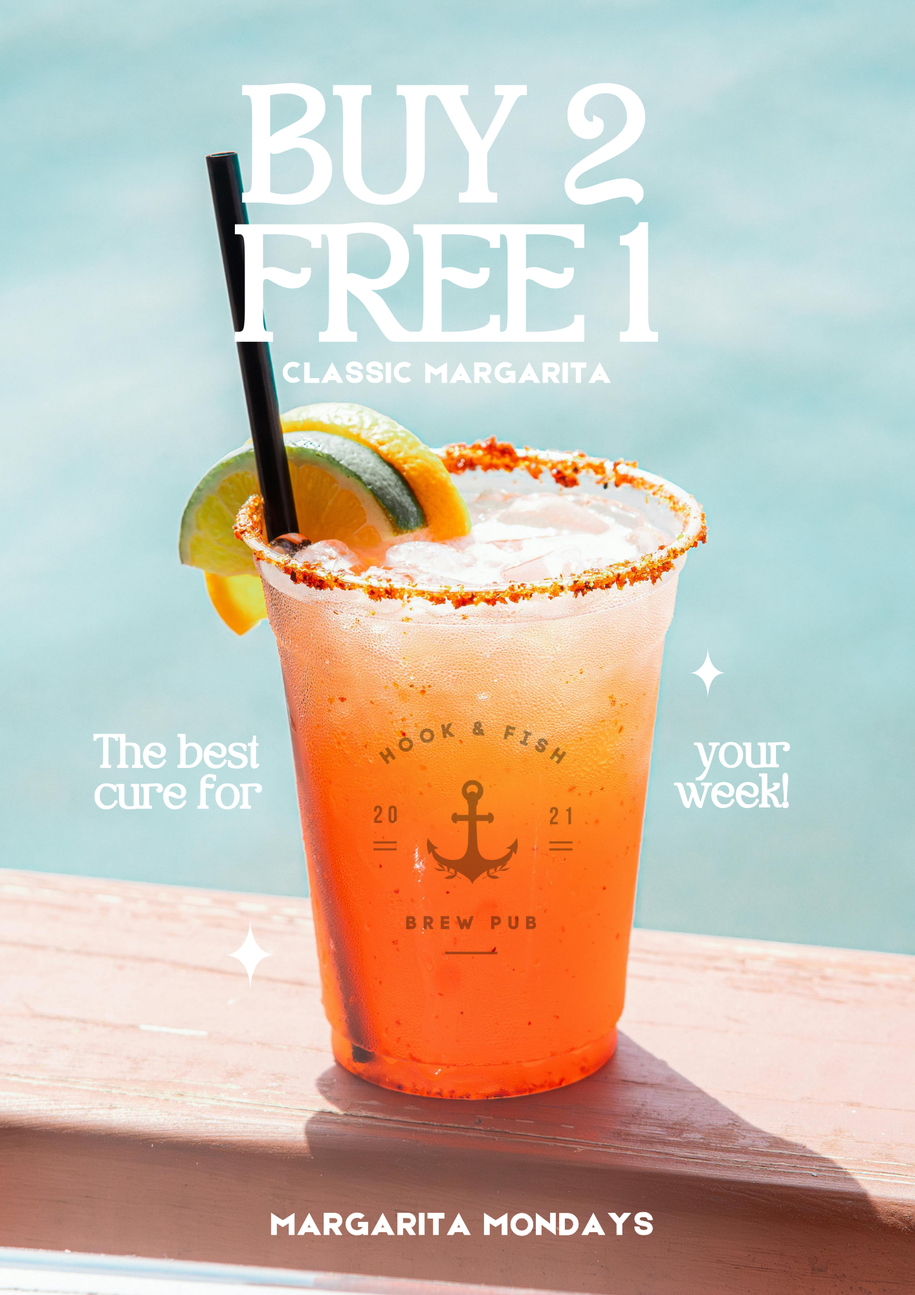Headline: (259, 354, 632, 395)
Price: (214, 62, 668, 359)
Product: (214, 396, 712, 1110)
logo: (397, 778, 547, 933)
